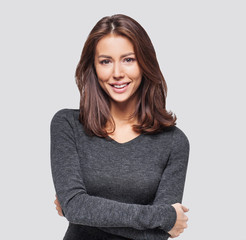young: (83, 13, 165, 128)
